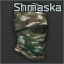Ski hat with holes for eyes: (0, 0, 64, 64)
